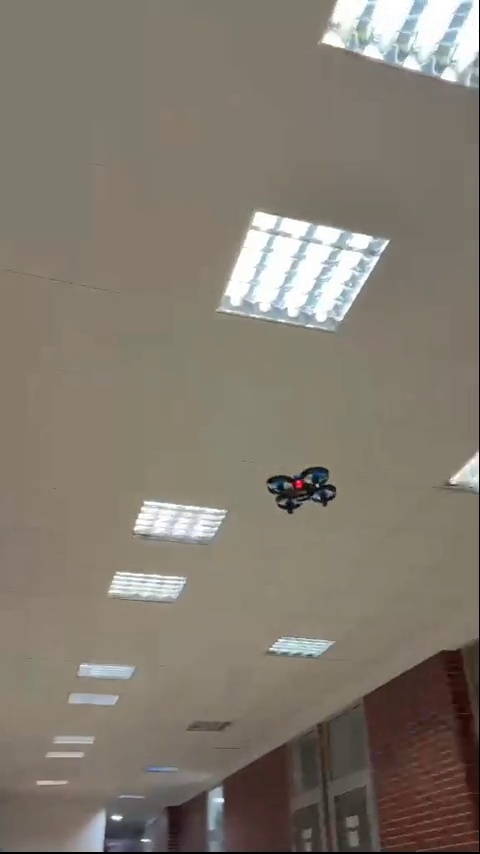drone: (271, 461, 336, 509)
